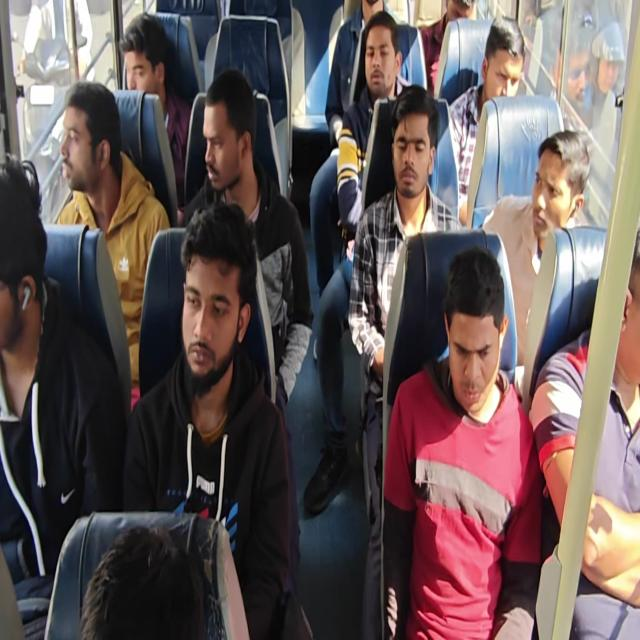person: (72, 522, 212, 640), (181, 205, 256, 388), (440, 239, 512, 423), (0, 153, 50, 354), (59, 84, 124, 208), (526, 118, 590, 241), (197, 77, 261, 192), (394, 78, 445, 205), (119, 8, 176, 105), (478, 12, 528, 118), (612, 215, 640, 398), (366, 6, 402, 98), (442, 0, 478, 28)
